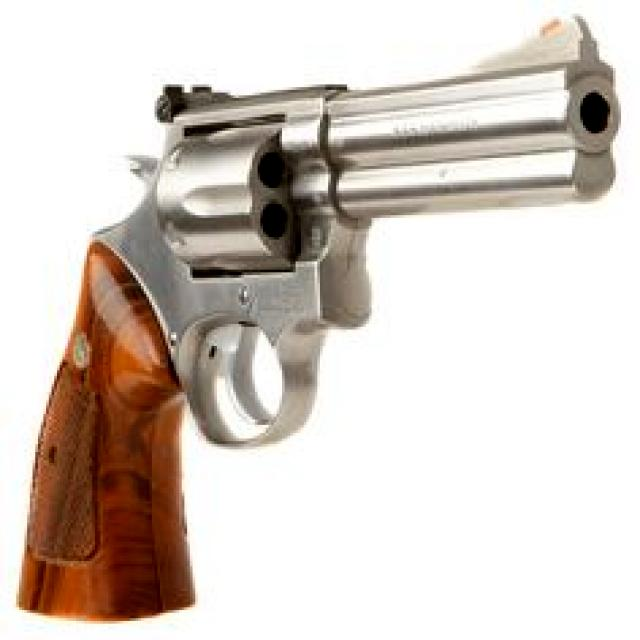revolver: (13, 12, 637, 623)
